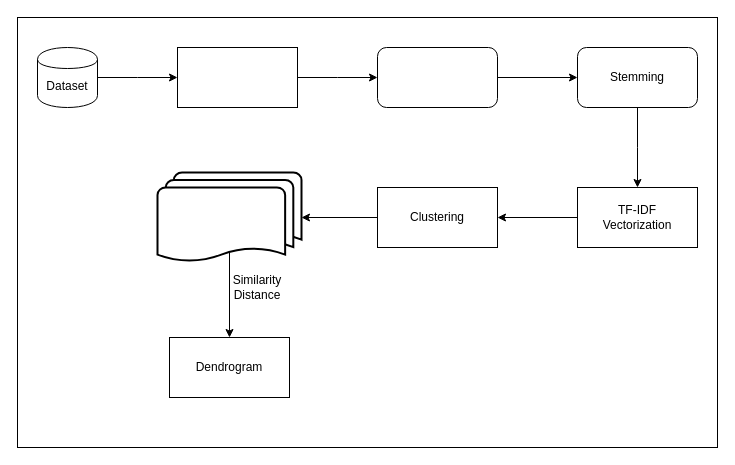
The diagram is 735 pixels wide and 465 high, and some of its shapes have lost their labels. Each missing label, with the centre of its shape:
Combining Plot Summaries: (x=237, y=77)
Movie Clusters: (x=229, y=217)
Tokenization: (x=437, y=77)
